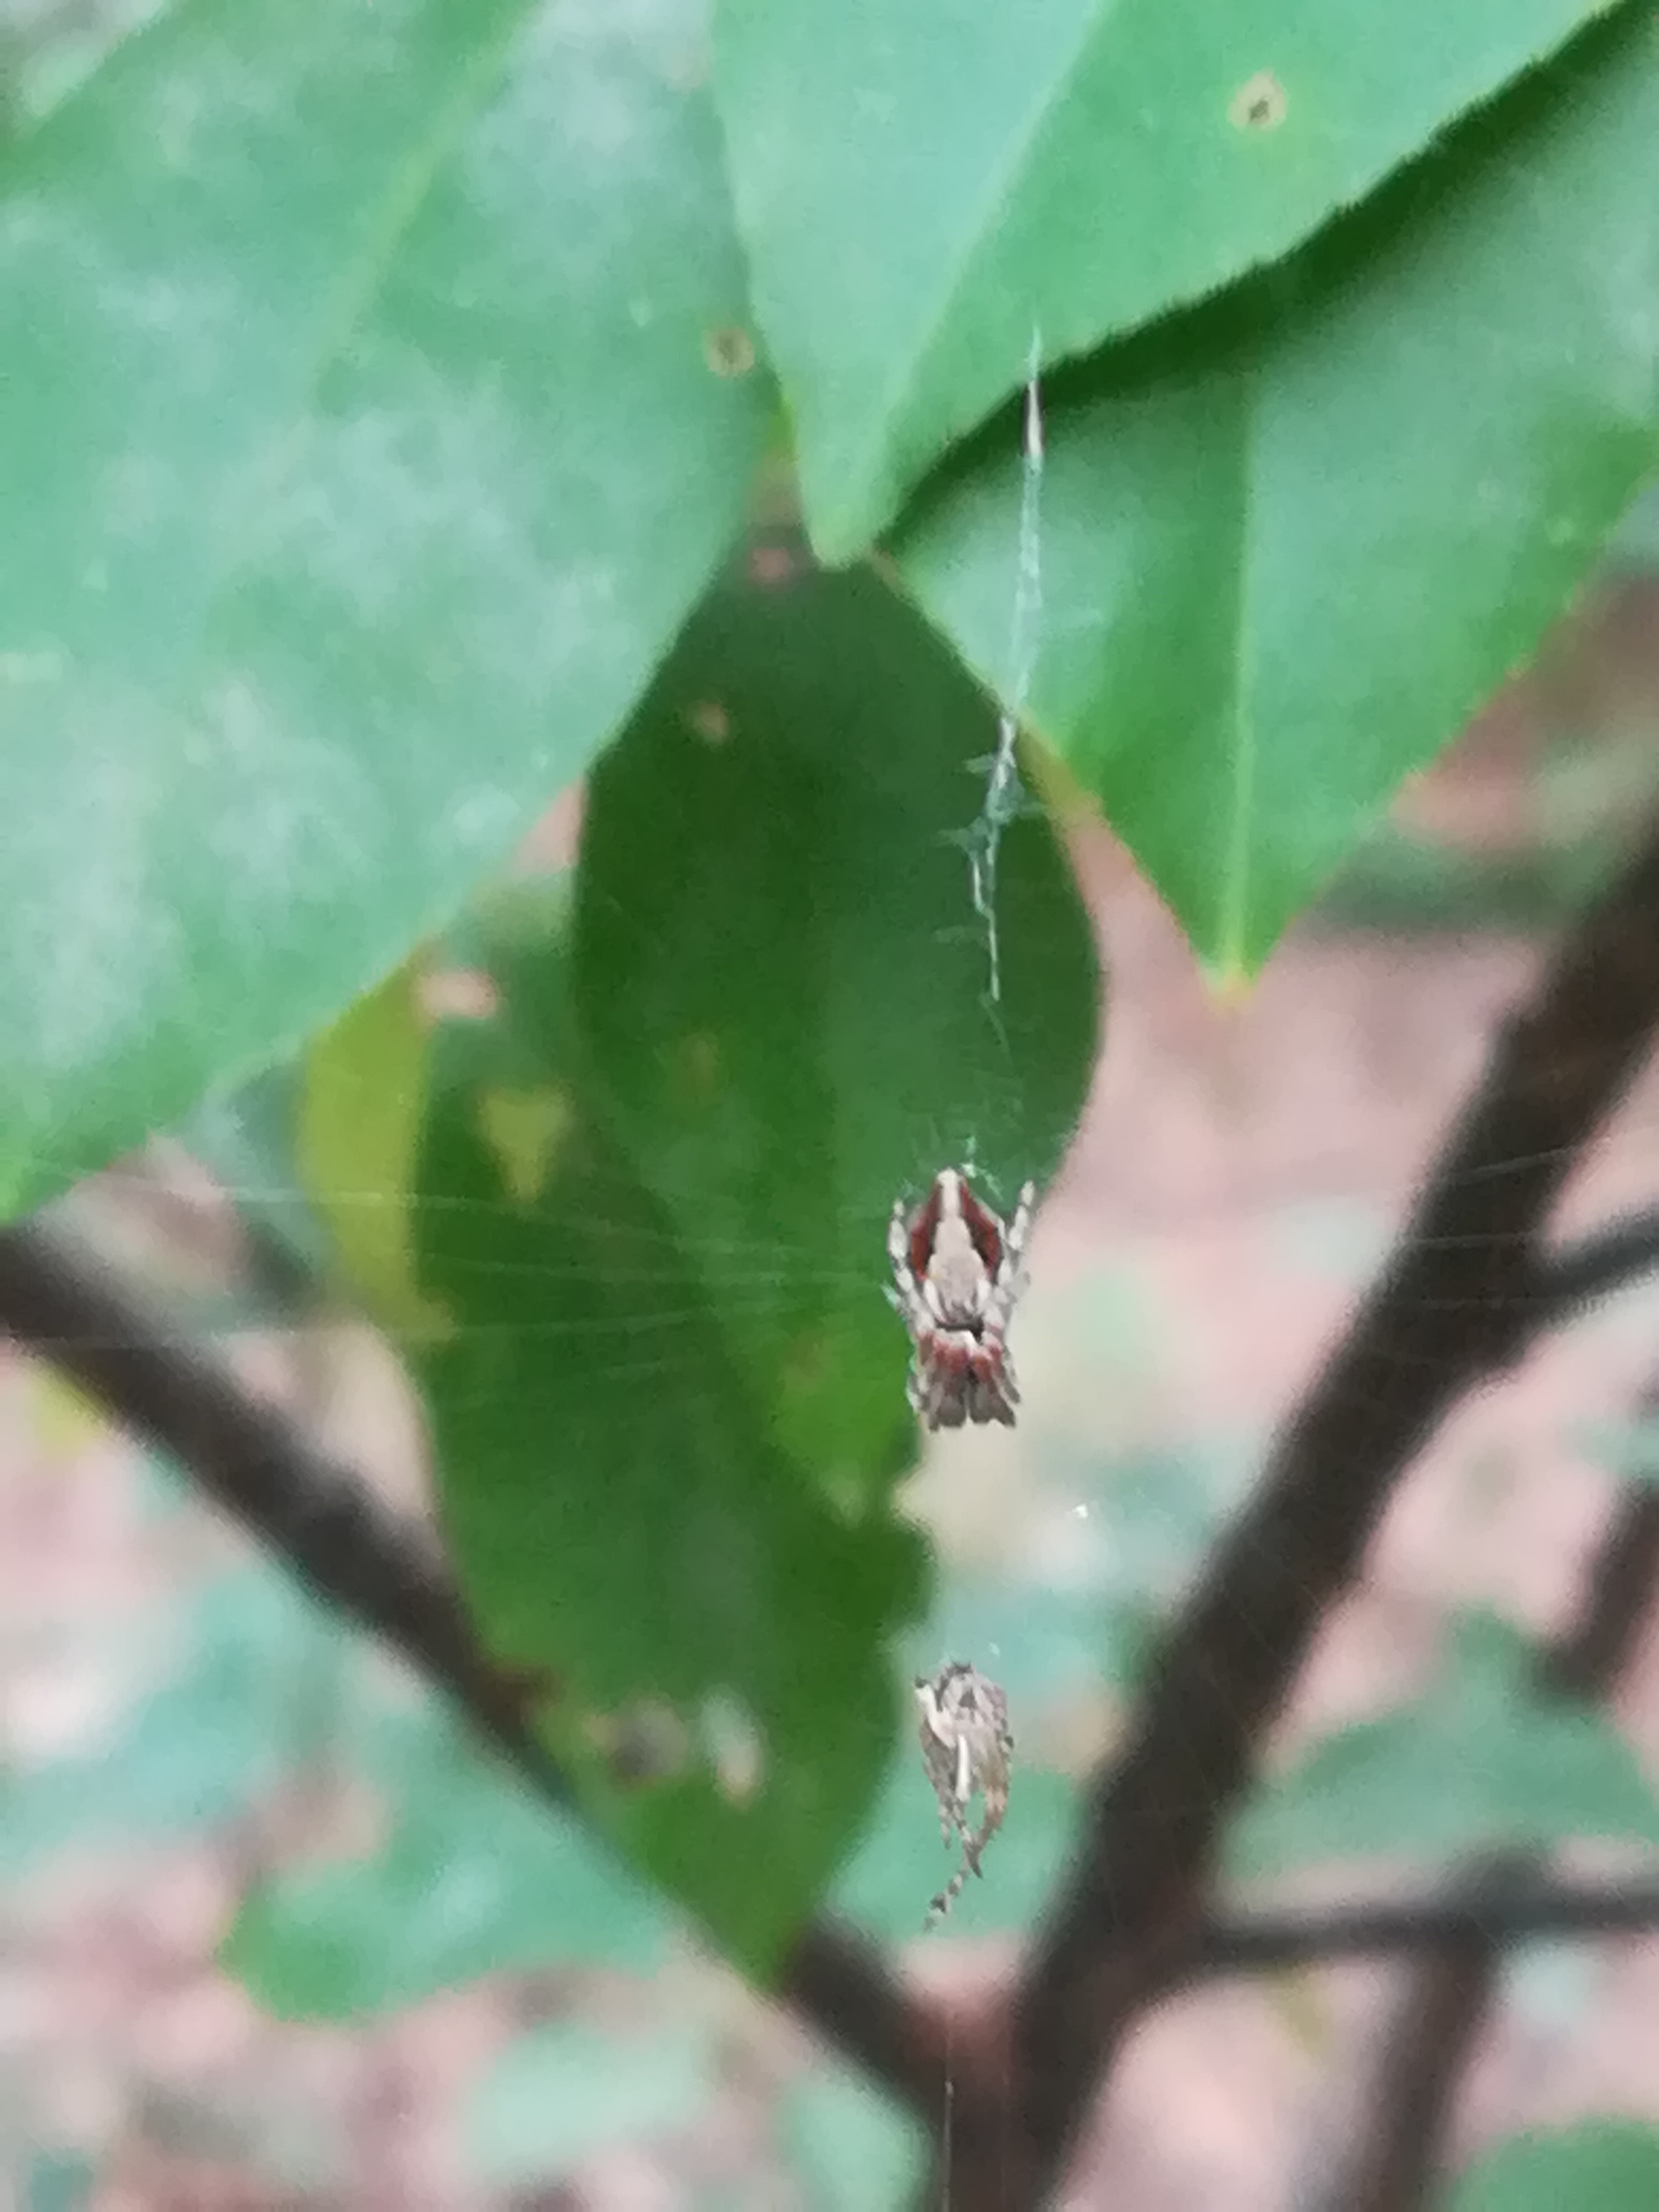spider: (831, 1125, 1100, 1496)
